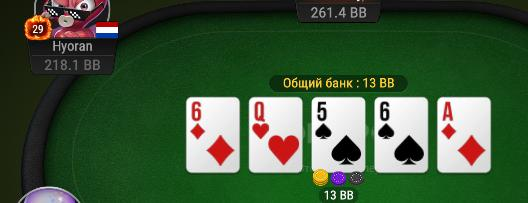5s: (311, 98, 364, 172)
6d: (187, 97, 239, 173)
6s: (375, 99, 427, 173)
Ad: (437, 98, 490, 173)
Qh: (250, 98, 302, 173)
